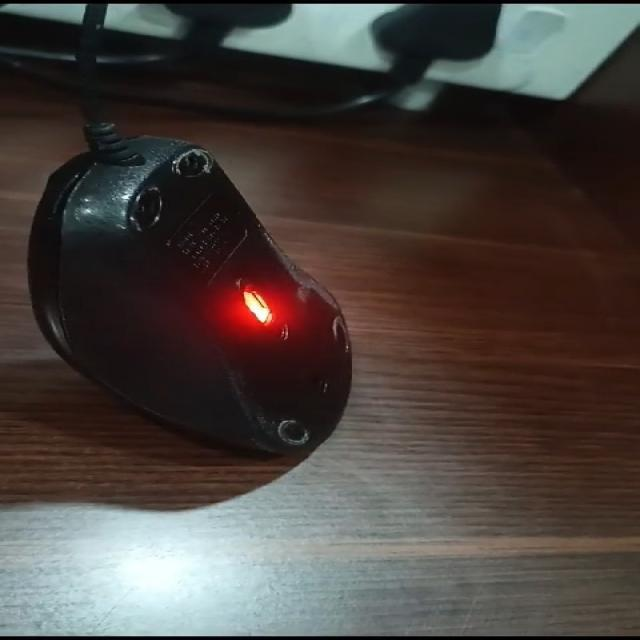mouse: (0, 94, 401, 480)
